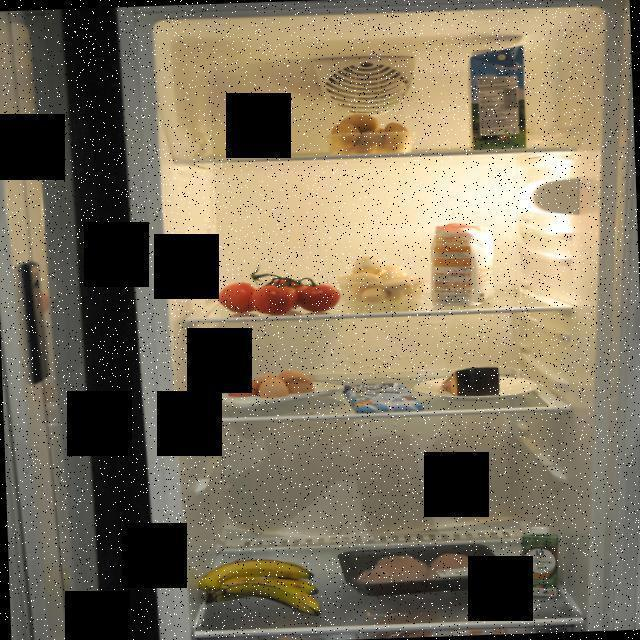banana: (197, 553, 328, 623)
cheese: (440, 365, 500, 399)
chicken_breast: (335, 540, 511, 598)
chocolate: (341, 381, 426, 414)
corn: (232, 124, 284, 160)
egg: (226, 368, 320, 406)
heavy_cream: (512, 522, 562, 602)
milk: (464, 38, 532, 154)
mushrooms: (333, 250, 426, 304)
potato: (324, 109, 417, 156)
sugar: (428, 216, 496, 310)
tomato: (215, 256, 342, 315)
